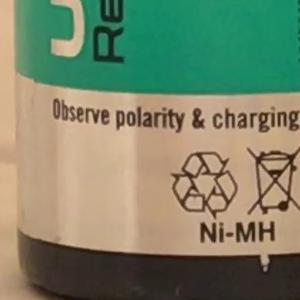keyword: (190, 211, 285, 253)
